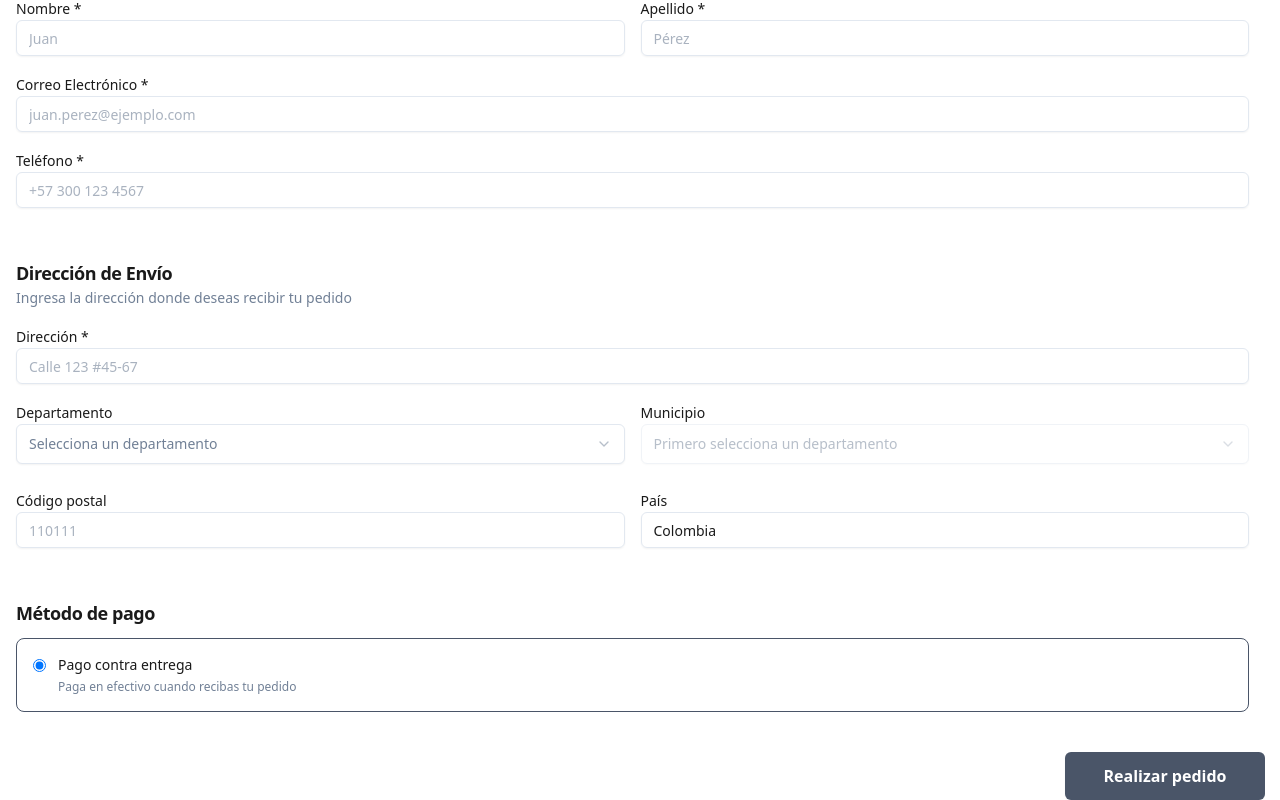
Test: GuestCheckoutForm field validation › marks an empty required field invalid and points it at the schema's message
(page scrolled)
Click the button "Realizar pedido": (1165, 776) [1065,752,1265,799]
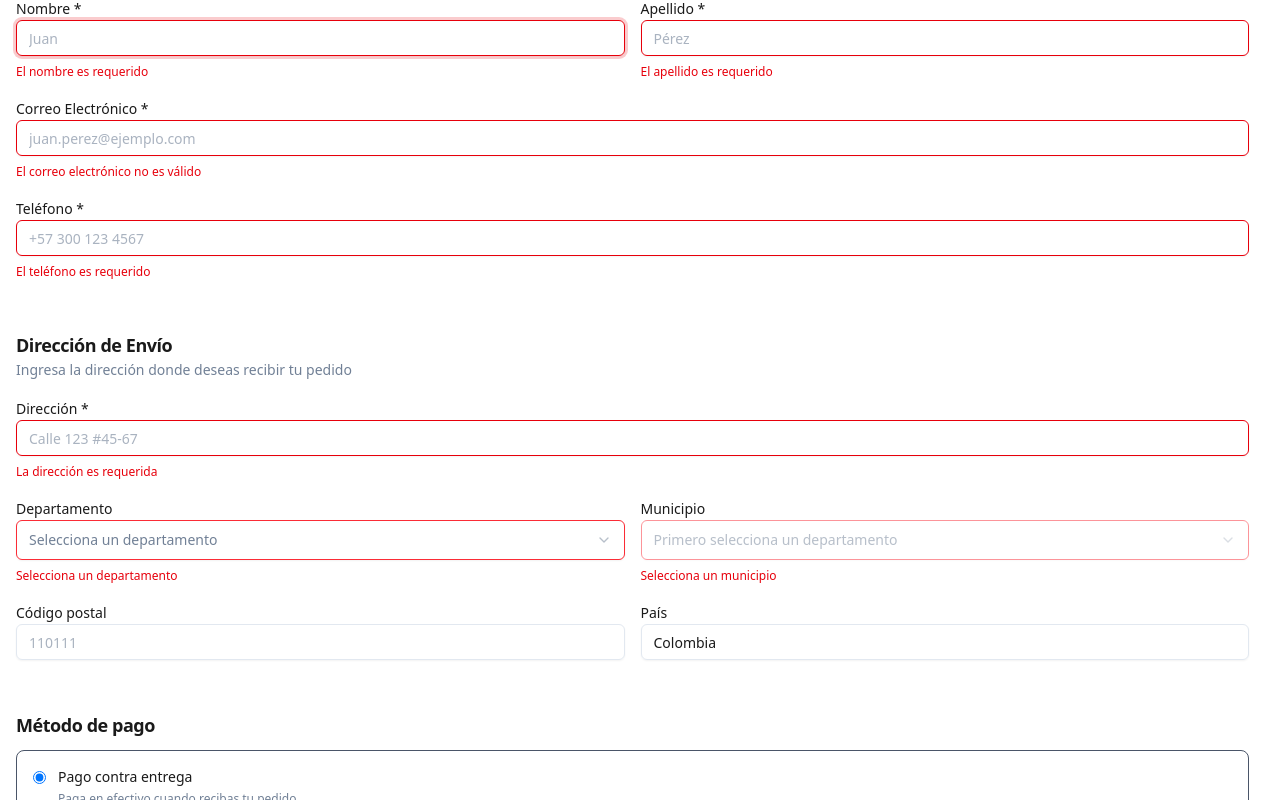
Check: the text "El correo electrónico no es válido" is shown, box [16,163,201,180]
